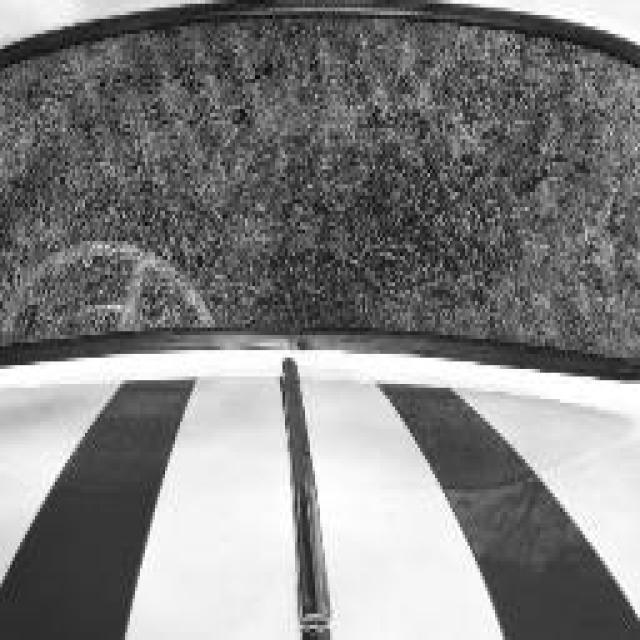Windshield: (0, 38, 640, 339)
